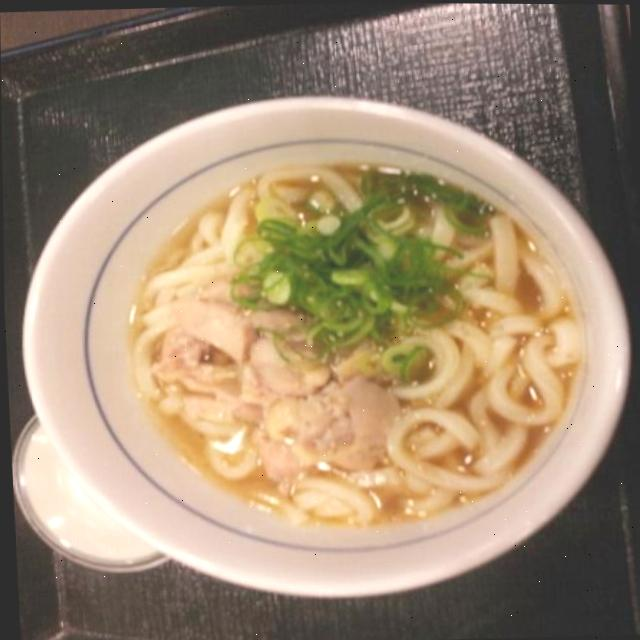面条主食: (3, 78, 640, 611)
